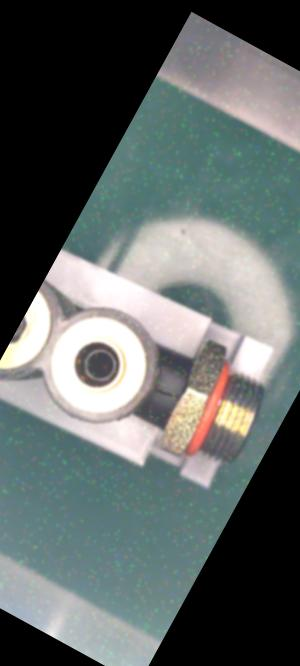craze: (151, 381, 180, 405)
